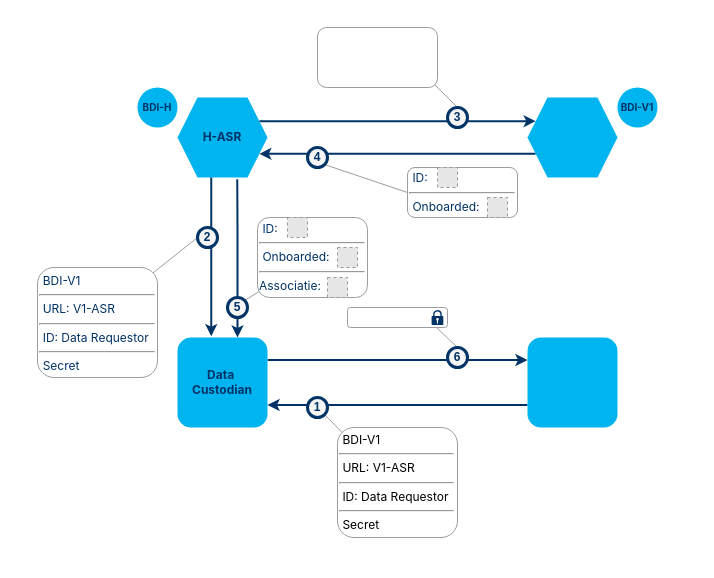
Image size: 714x578. Some labels were removed from this diagram. Grey dashed boxes stand in for pictures. The shapes that lost their labels are listed below. From the top down, each one's centre as x and y in pixels, then its label:
At point (377, 57): "ID: Data Requestor Secret".
At point (572, 137): "V1-ASR".
At point (397, 317): "Bearer Token".
At point (572, 382): "Data Requestor".
